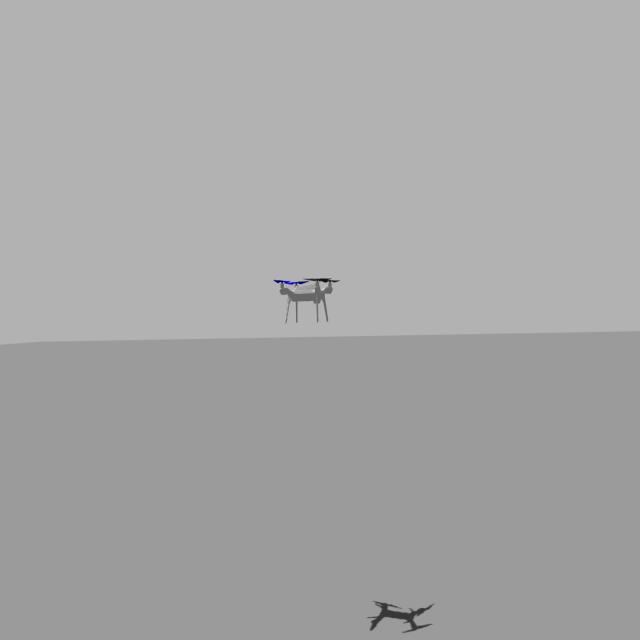Drone: (270, 269, 343, 328)
